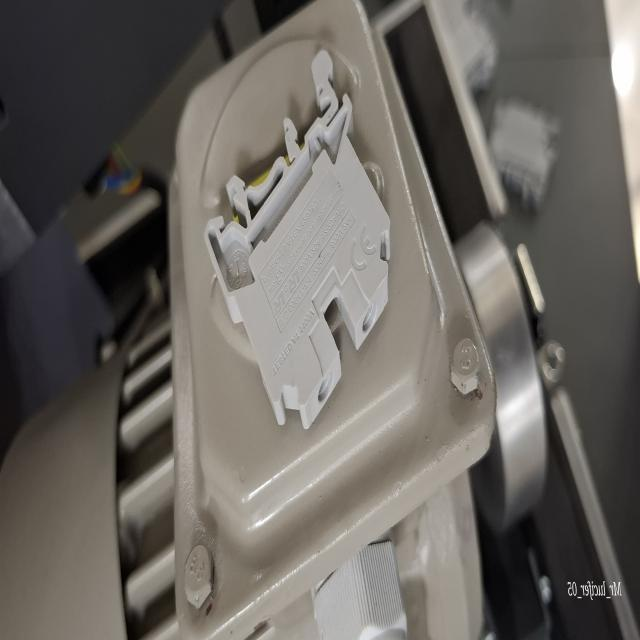Inverted: (203, 46, 393, 437)
